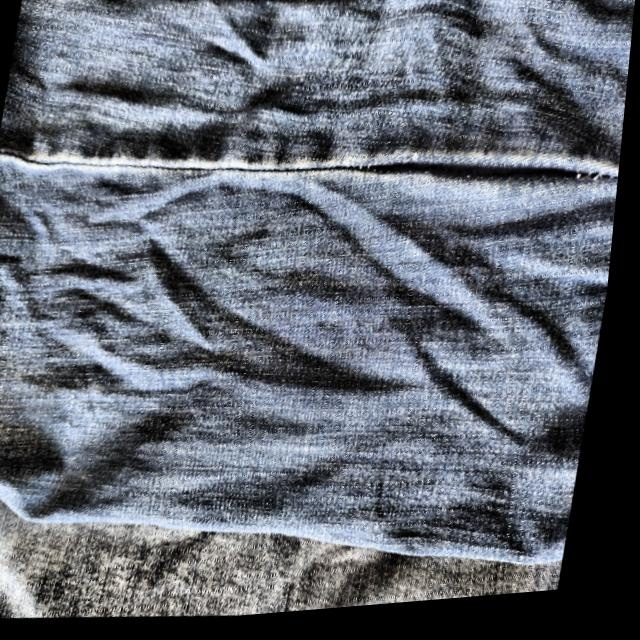seam: (353, 96, 619, 245)
